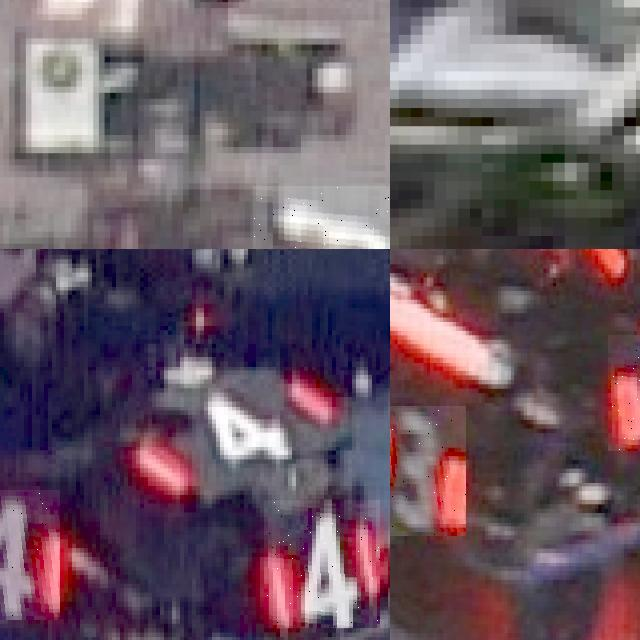R3: (390, 406, 465, 535), (253, 186, 390, 249), (608, 335, 640, 450)
R4: (264, 500, 380, 628), (0, 490, 60, 619)
